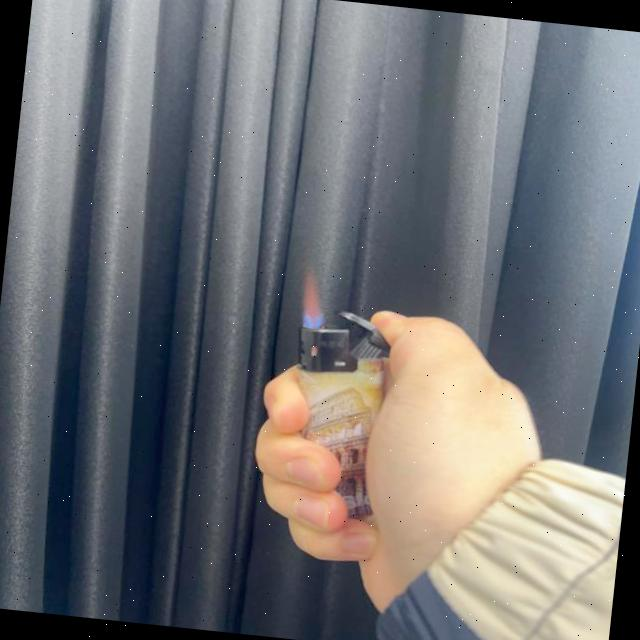fire: (295, 270, 328, 330)
